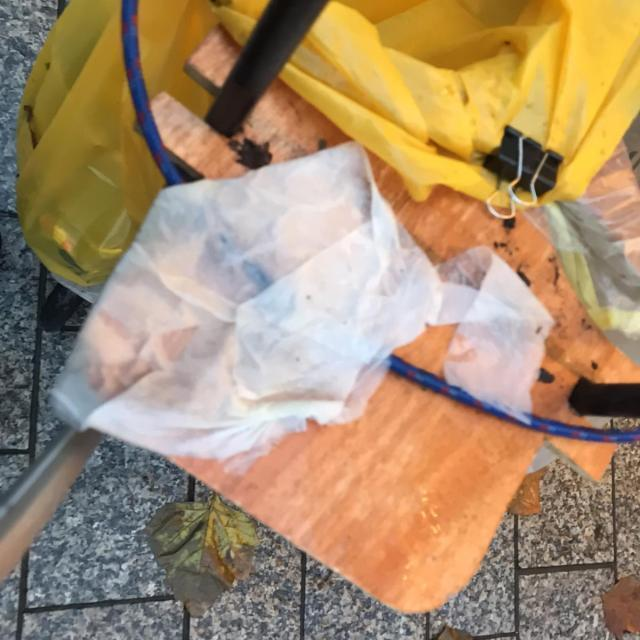Paper: (48, 140, 556, 478)
